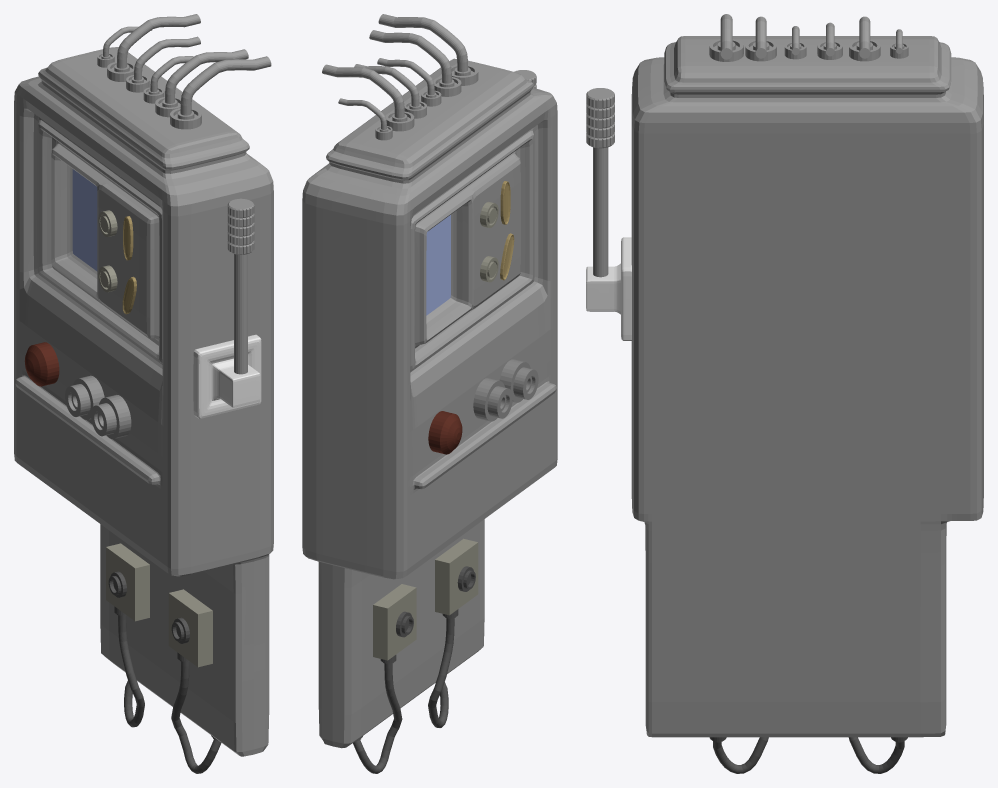
The model's file is panou curent.fbx.
3 views of the same model, side by side, from view 1: azimuth 30°, elevation 25°; view 2: azimuth 150°, elevation 25°; view 3: azimuth 270°, elevation 25° (orthographic). The views are drawn at different scales.
Visible parts, largest first — view 1: Cube.054; view 2: Cube.054; view 3: Cube.054.
Boxes of the visible parts, x1,y1,x2,y2 form: Cube.054: (14,14,273,773); Cube.054: (302,14,557,773); Cube.054: (586,14,983,773).
Bounding box in the file's own units: 87.82 × 369 × 174.
